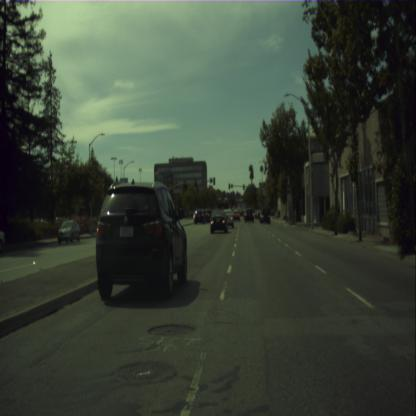Red: (228, 183, 230, 189), (254, 185, 255, 191), (243, 184, 244, 189)
RedLeft: (213, 178, 214, 184)
